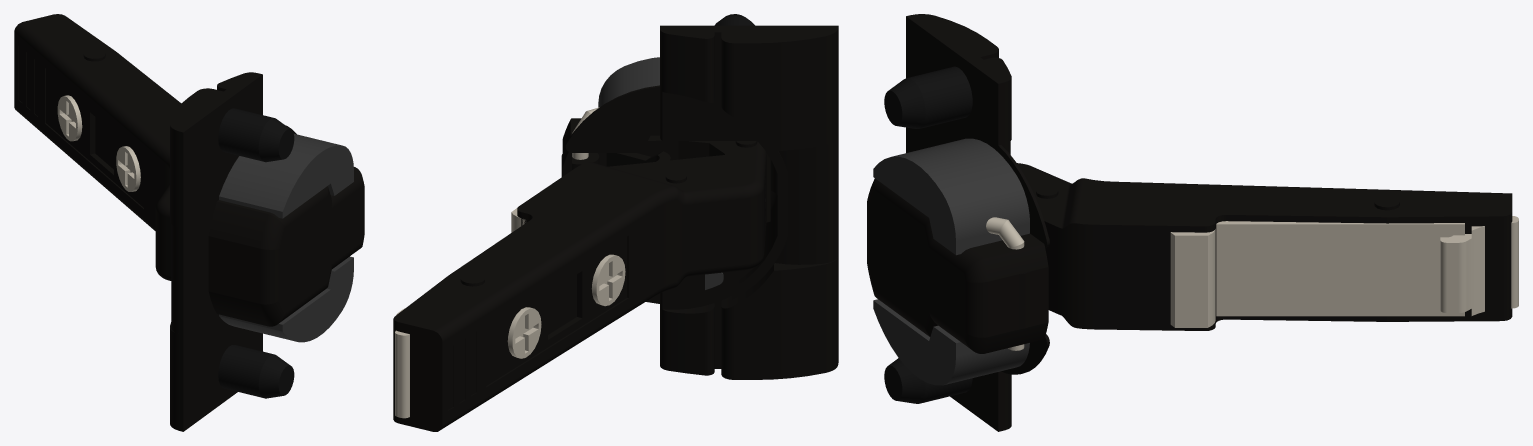
3 renders of one model, left to right at view 1: azimuth 30°, elevation 25°; view 2: azimuth 150°, elevation 25°; view 3: azimuth 270°, elevation 25°, orthographic. The views are drawn at different scales.
Visible parts, largest first — view 1: bau0016962400-1, bau0017003582-1; view 2: bau0016962400-1, bau0017003582-1, bau0015167707-1, bau0019426112-1, bau0015167363-1; view 3: bau0016962400-1, bau0017003582-1, bau0019426112-1, bau0015167363-1.
Part boxes in pixels (x1,y1,x2,y2): bau0016962400-1: (170,72,364,431); bau0017003582-1: (14,14,180,280); bau0016962400-1: (562,14,838,379); bau0017003582-1: (393,141,766,431); bau0015167707-1: (637,135,770,222); bau0019426112-1: (395,208,525,418); bau0015167363-1: (561,151,670,176); bau0016962400-1: (867,14,1049,431); bau0017003582-1: (1017,163,1512,330); bau0019426112-1: (1170,216,1518,327); bau0015167363-1: (1019,271,1030,329).
Bounding box in the file's own units: 42.89 × 57 × 96.73.
